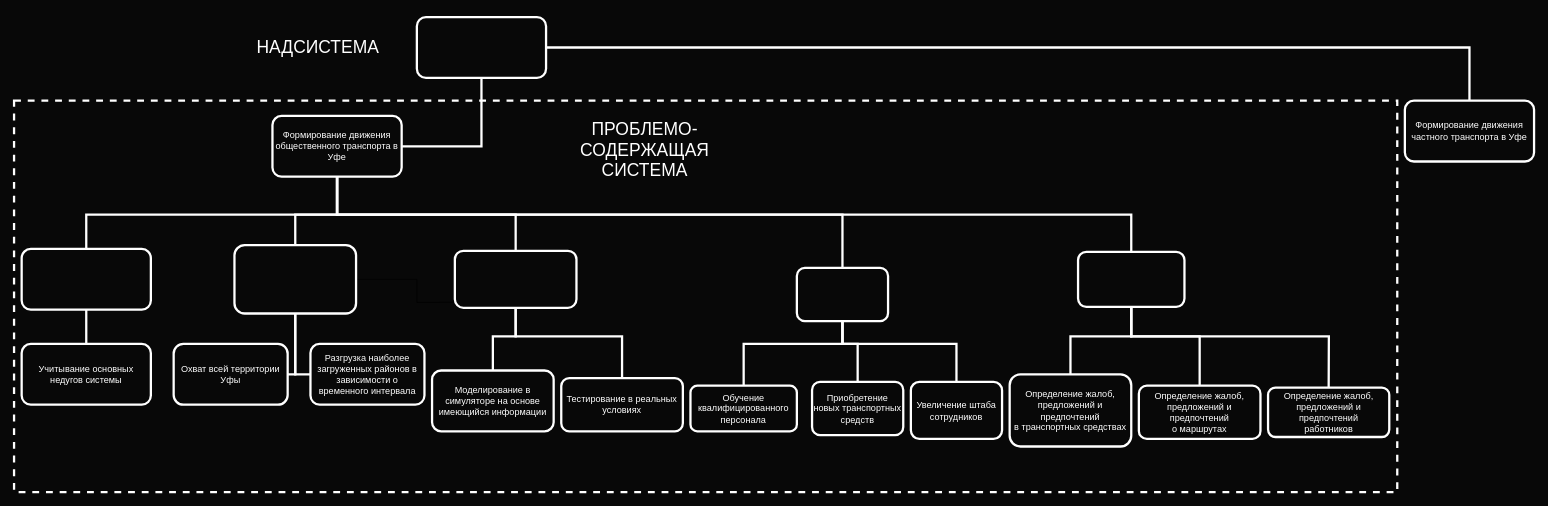
Some shapes in this 1548 by 506 pixel diagram are drawn without their labels. Each missing label, with the centre of its shape:
"Освоение бюджетных средств" belongs at (842,294).
"Сбор общественного мнения о транспортной системе" belongs at (1131,279).
"Тестирование новых маршрутов" belongs at (515,279).
"Формирование оптимальных транспортных маршрутов" belongs at (295,279).
"Формирование стратегических планов развития транспортной системы" belongs at (86,278).
"Формирование транспортного движения в Уфе" belongs at (481,47).
